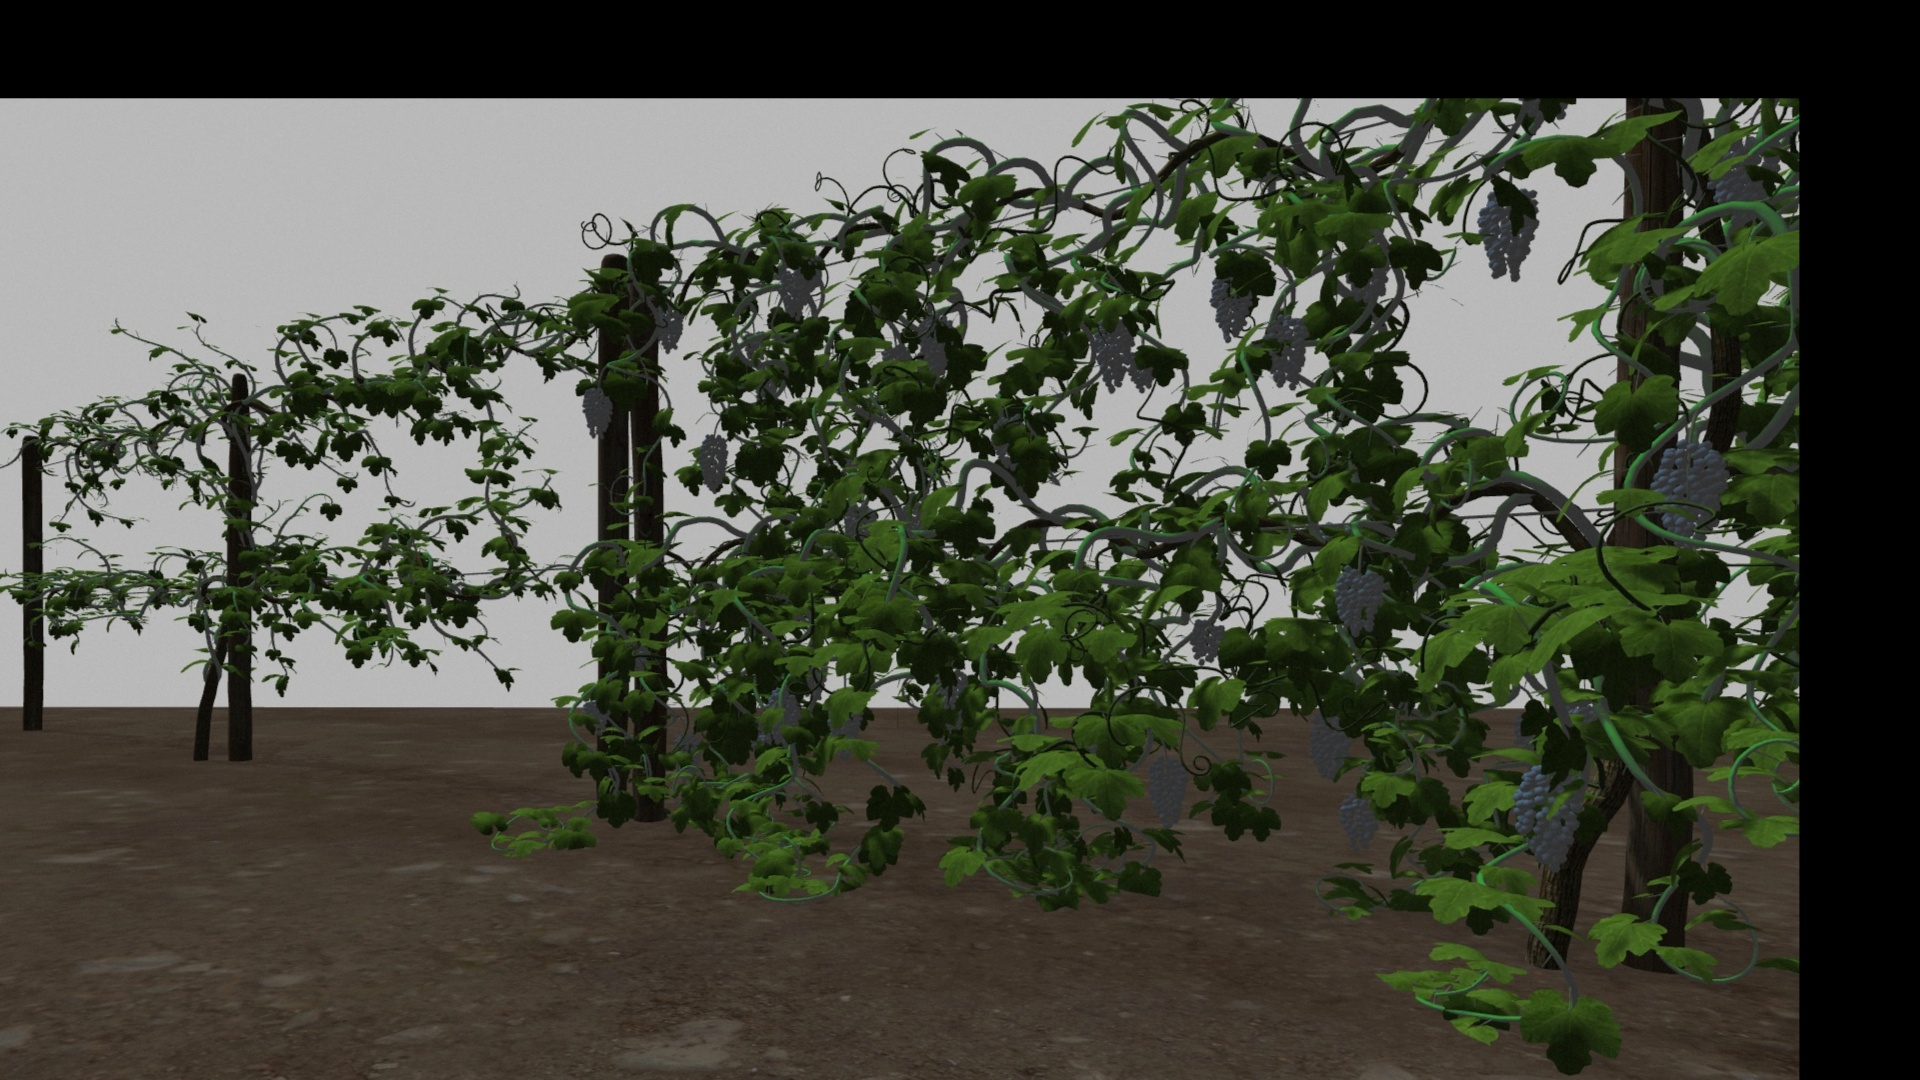grape: (1511, 762, 1585, 874), (1650, 440, 1727, 537), (1478, 182, 1539, 284), (1331, 568, 1385, 640), (1139, 753, 1188, 828), (1262, 314, 1309, 390), (1089, 316, 1133, 392), (1211, 268, 1253, 342), (1308, 709, 1348, 781), (1337, 793, 1379, 851), (778, 262, 816, 322), (914, 316, 951, 375), (694, 434, 728, 495), (765, 687, 799, 745), (1185, 620, 1222, 669), (653, 305, 683, 355), (583, 389, 612, 439)
